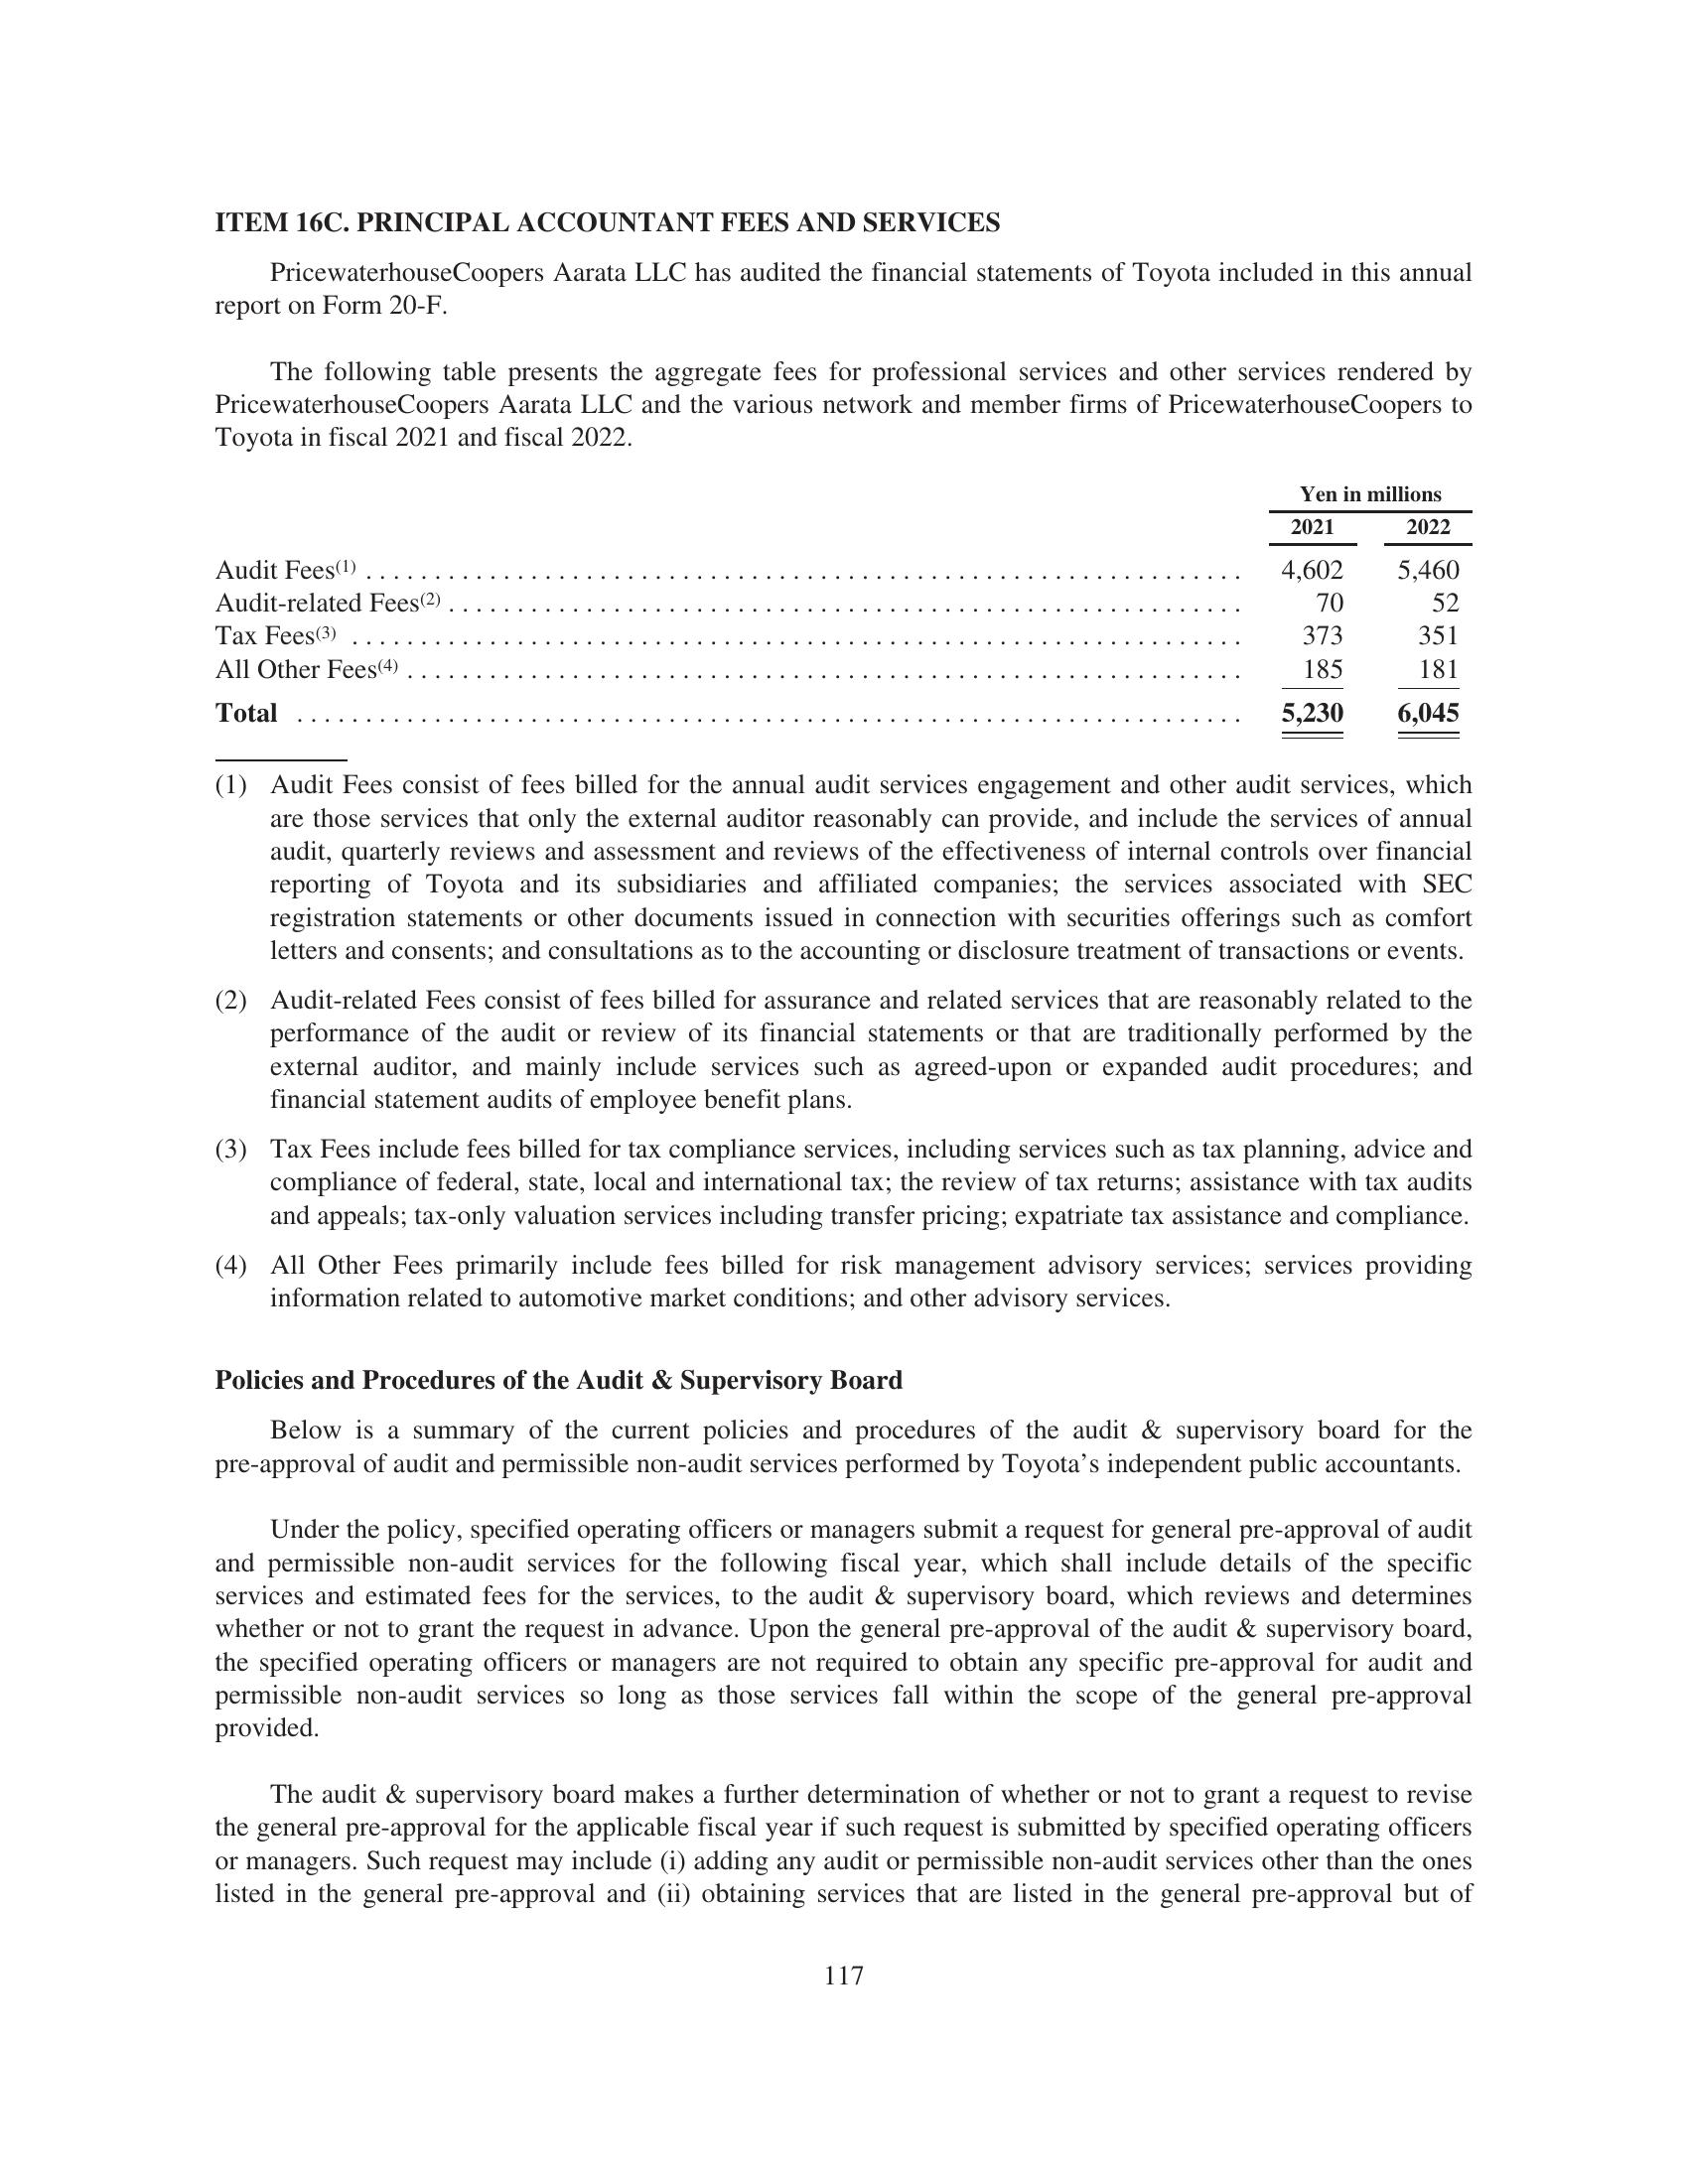Footer: (0, 1959, 1688, 2184)
Header: (0, 0, 1688, 158)
Table: (179, 477, 1475, 750)
